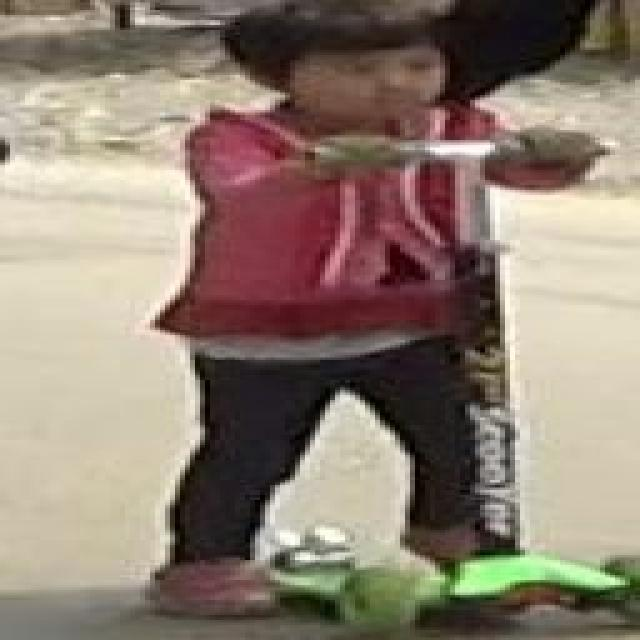child: (151, 2, 556, 588)
